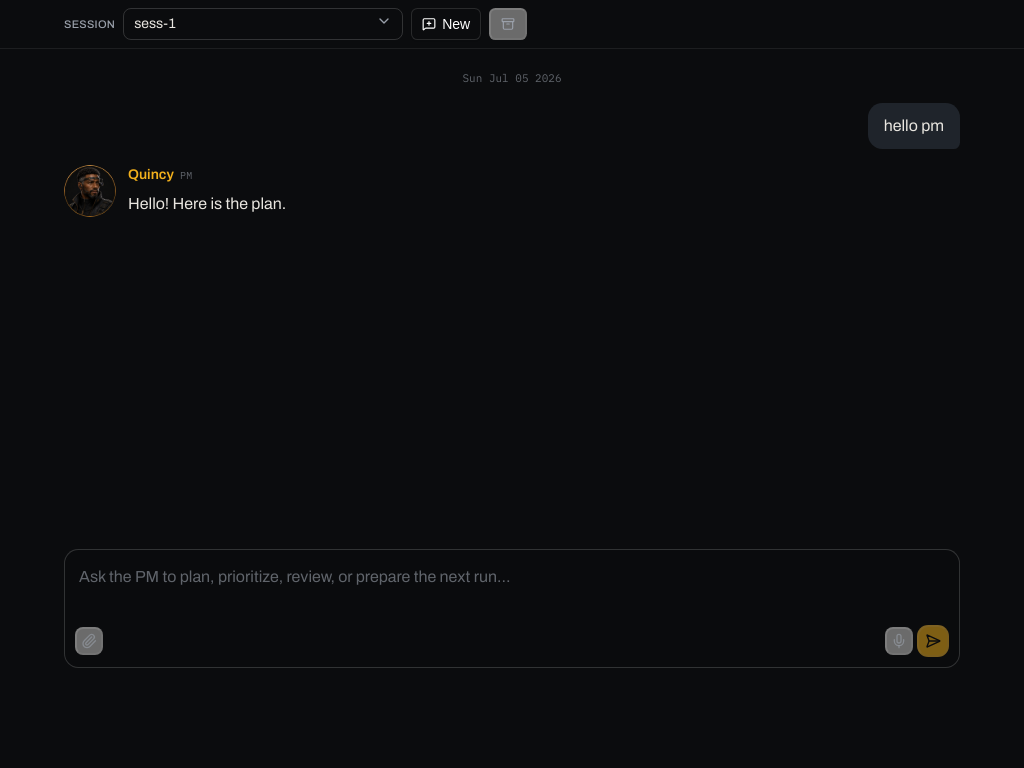
Test: PM workspace › request edits autofocuses, sends feedback, and locks into revision state
Expected: the text "hello pm" is shown, [868, 103, 960, 149]
Replace the text in the text box with placeholder "Ask the PM" with "plan" at (512, 586), box [65, 550, 959, 622]
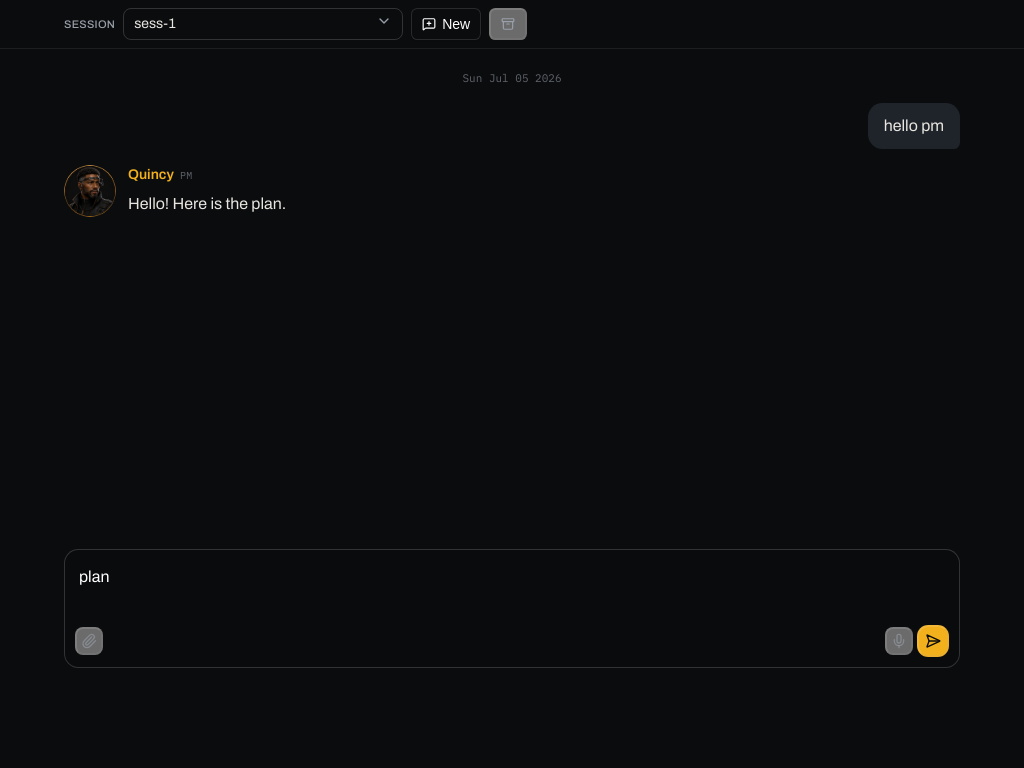
Click the button named "Send message to the PM".
click(933, 641)  # box [917, 625, 949, 657]
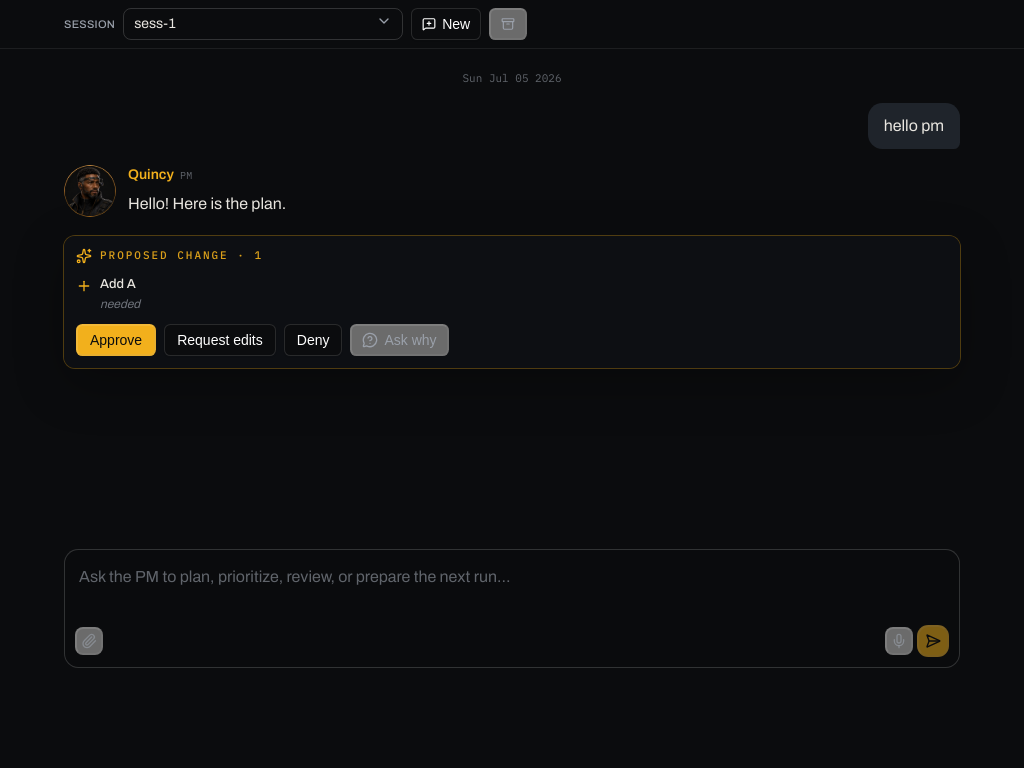
Expected: the text "Proposed change · 1" is shown, [76, 248, 263, 264]
Click the button "Request edits".
click(220, 340)  # box [164, 324, 276, 356]
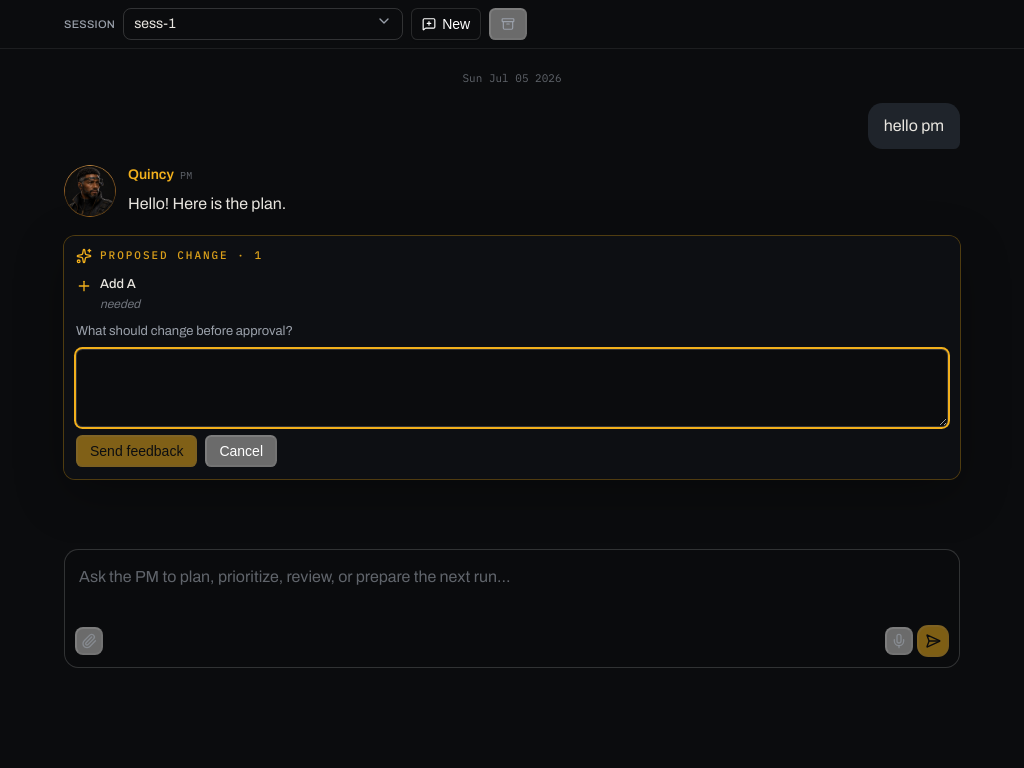
Type "smaller scope" into the text box labelled "What should change before approval?".
click(512, 388); type("smaller scope")  # box [76, 349, 948, 427]
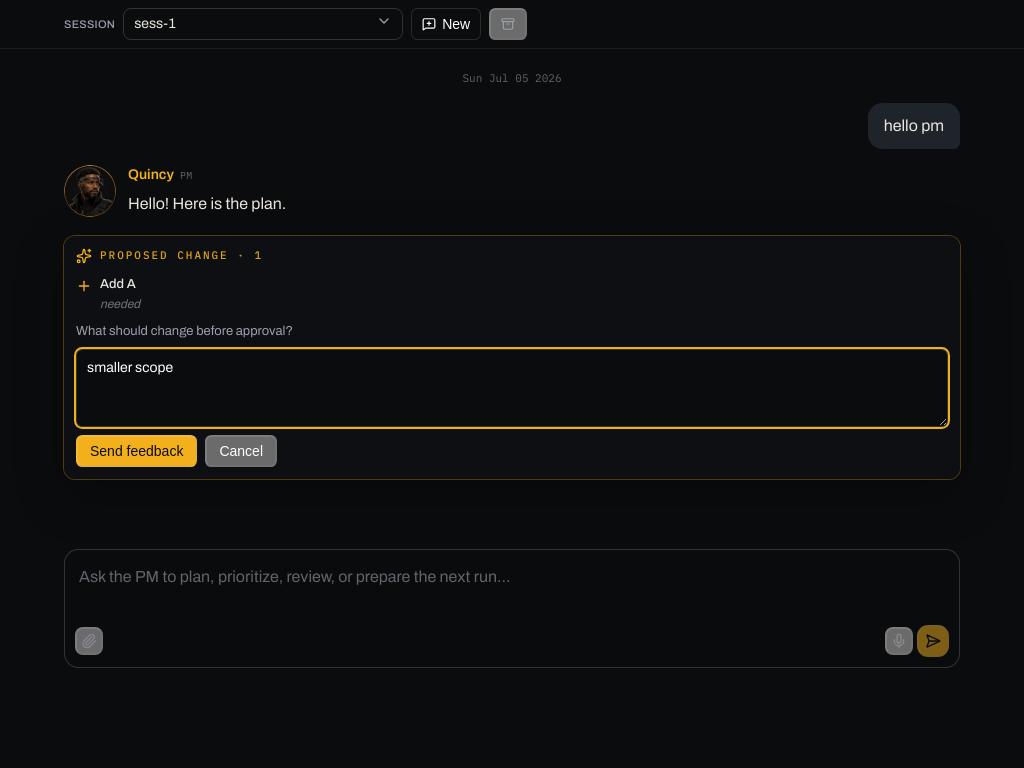
Click the button "Send feedback".
click(137, 451)  # box [76, 435, 197, 467]
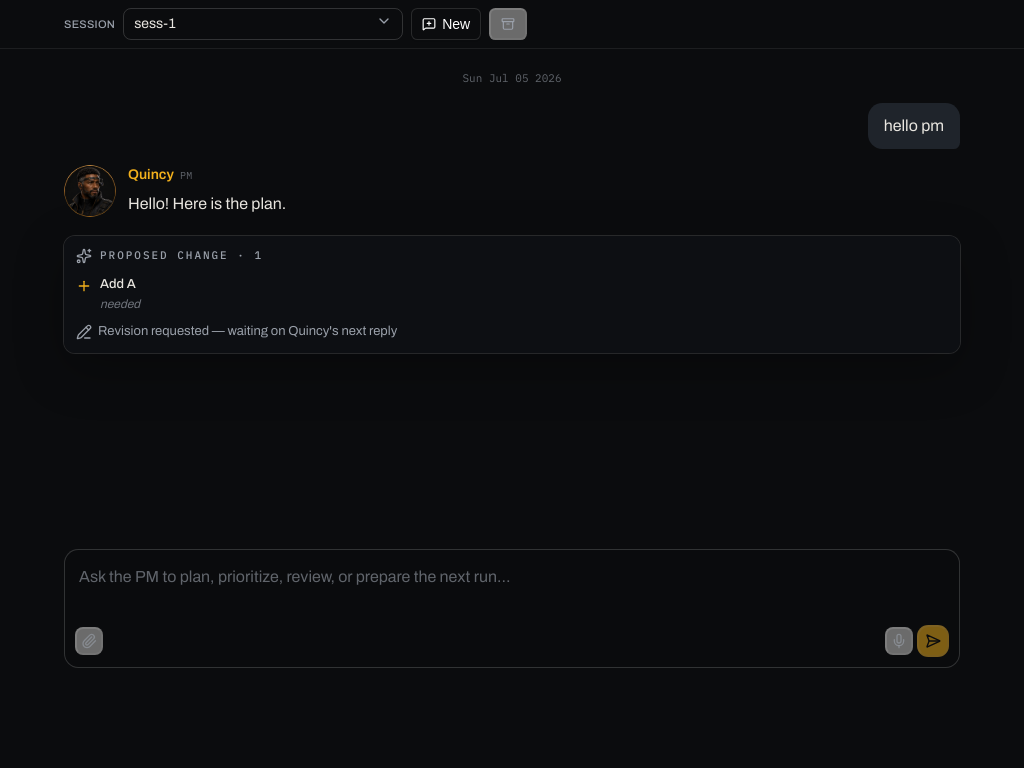
Expected: the button "Approve" is not shown
Expected: the text "Revision requested — waiting on Quincy's next reply" is shown, [76, 324, 397, 340]
